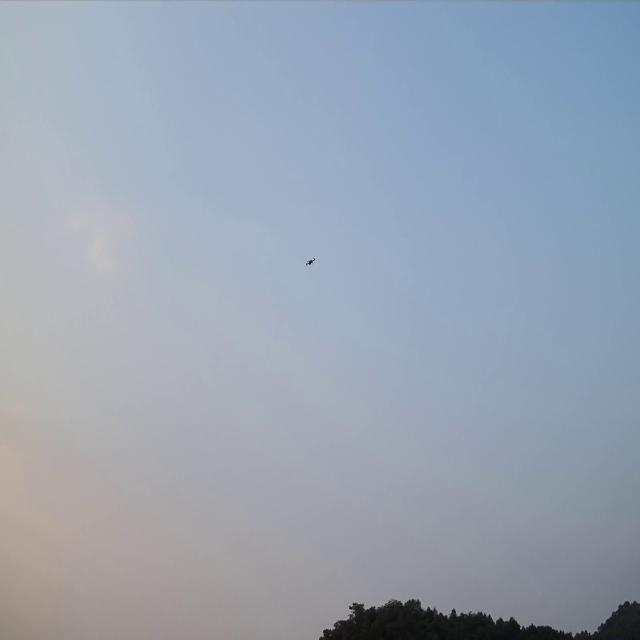UAV: (306, 256, 316, 266)
